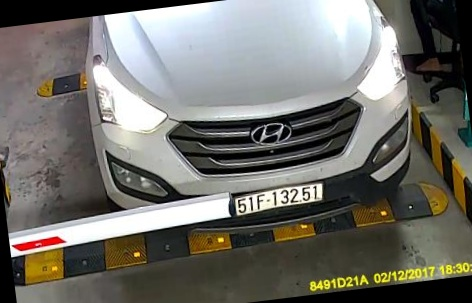plate: (232, 181, 329, 218)
